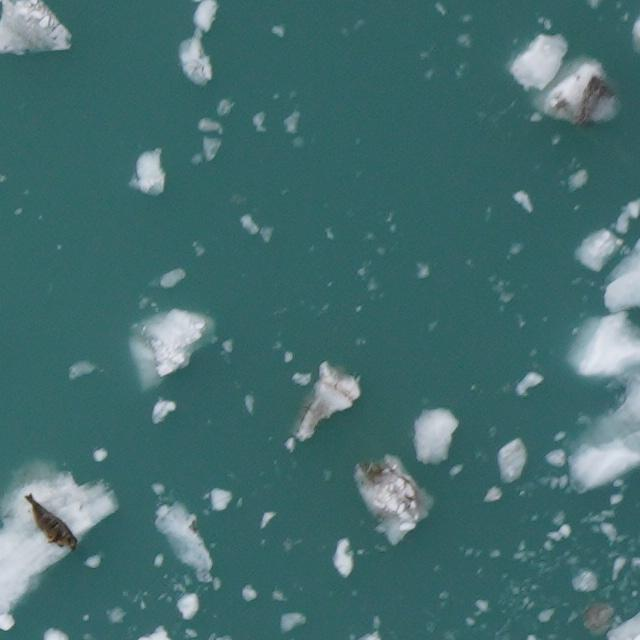seal: (21, 485, 83, 564)
